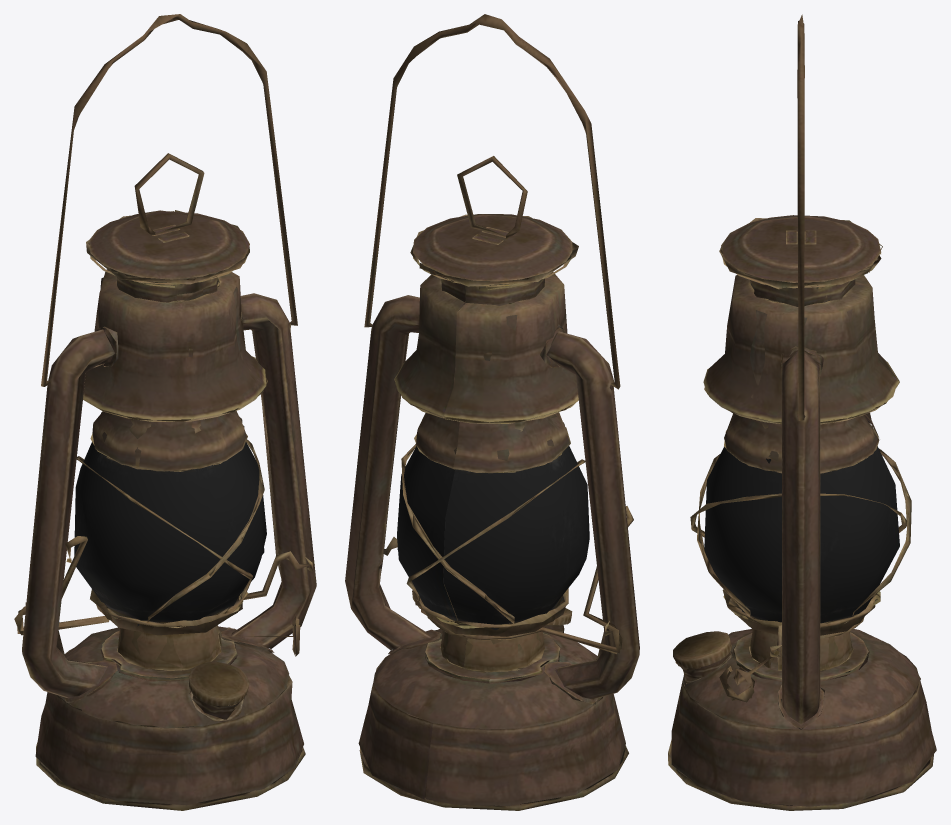
The model's file is lantern.glb.
The picture shows the model from 3 angles, left to right: view 1: azimuth 30°, elevation 25°; view 2: azimuth 150°, elevation 25°; view 3: azimuth 270°, elevation 25°; orthographic projection.
Parts seen in each view (by area): view 1: Lantern_01, Lantern_01_glass; view 2: Lantern_01, Lantern_01_glass; view 3: Lantern_01, Lantern_01_glass.
Part boxes in pixels (<box>): Lantern_01: <box>14,14,316,810</box>; Lantern_01_glass: <box>74,425,266,626</box>; Lantern_01: <box>345,14,639,810</box>; Lantern_01_glass: <box>397,446,589,630</box>; Lantern_01: <box>668,14,936,810</box>; Lantern_01_glass: <box>704,420,899,623</box>.
Size of the model in its own units: 0.1224 by 0.294 by 0.0973.
2 materials, 2 textured.
